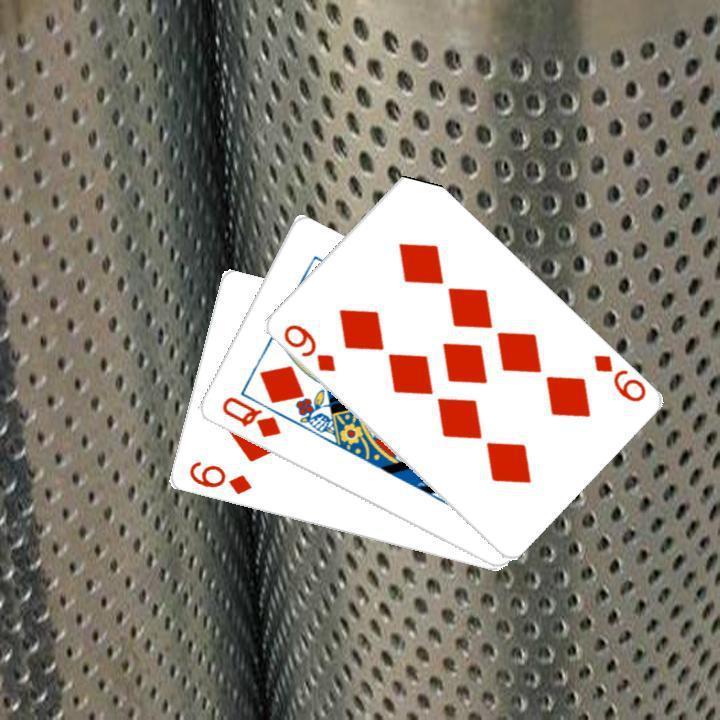6: (184, 457, 253, 497)
9: (588, 350, 648, 404), (278, 320, 337, 374)
Q: (217, 392, 283, 440)
